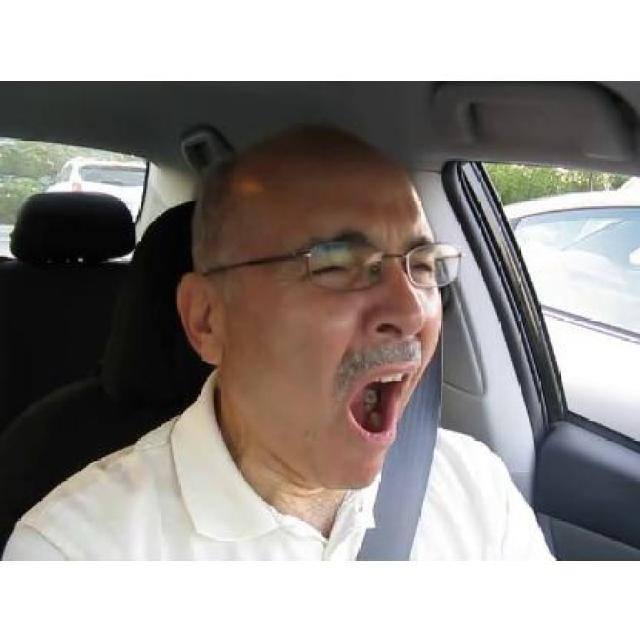inattentif: (174, 116, 441, 496)
